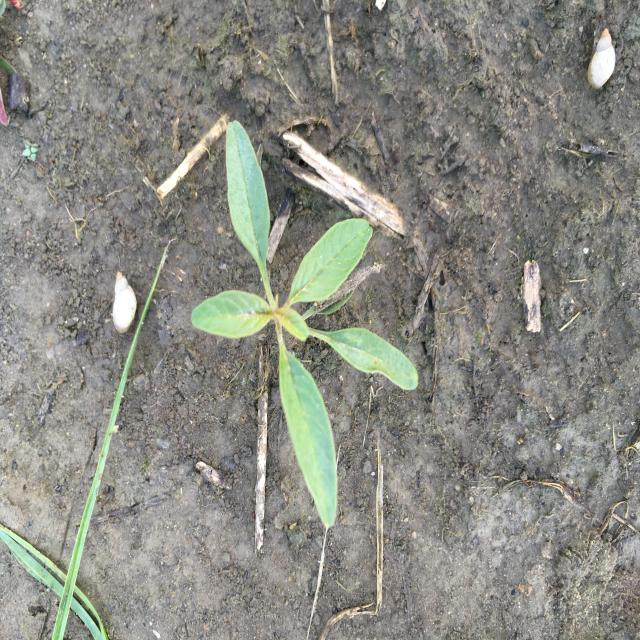Waterhemp: (189, 116, 420, 532)
